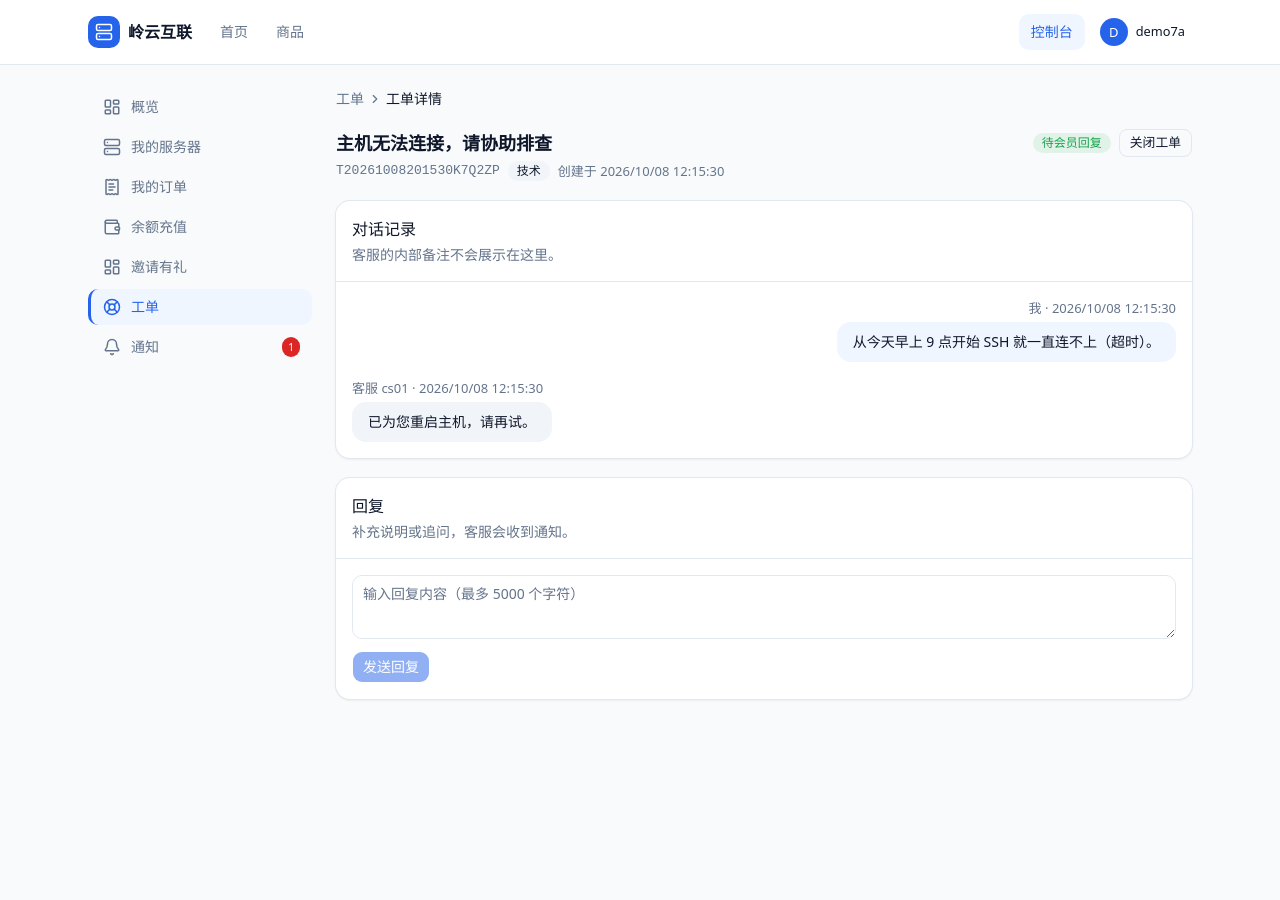
会员区 · 工单详情 › 发送回复按 content 提交请求并刷新对话
Expected: the heading "主机无法连接，请协助排查" is shown, left=336, top=131, right=552, bottom=155
Type "已重试，仍然不通。" into the text box labelled "回复内容" at (764, 607), box left=352, top=575, right=1176, bottom=639
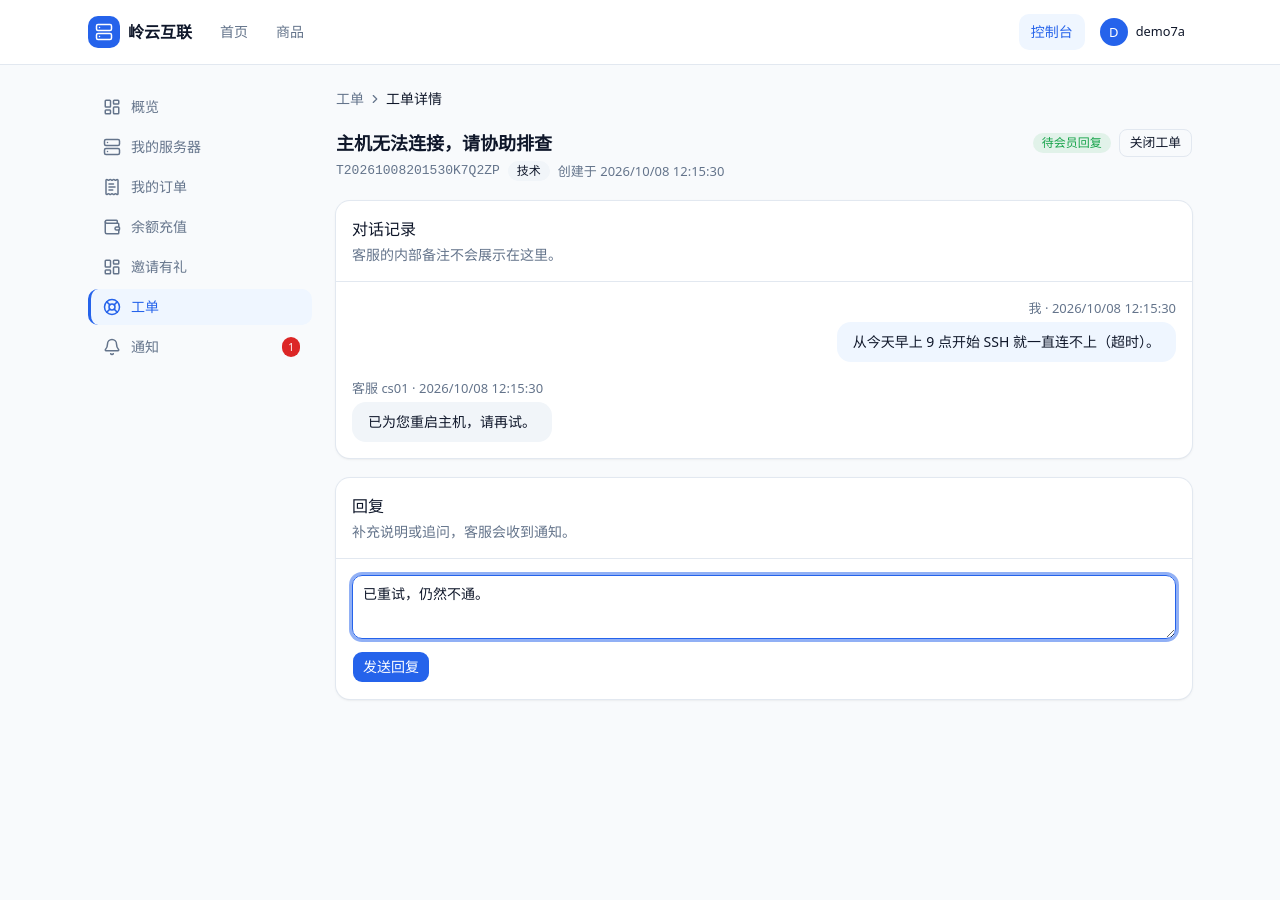
Click the button "发送回复" at (391, 667), box left=352, top=651, right=430, bottom=683
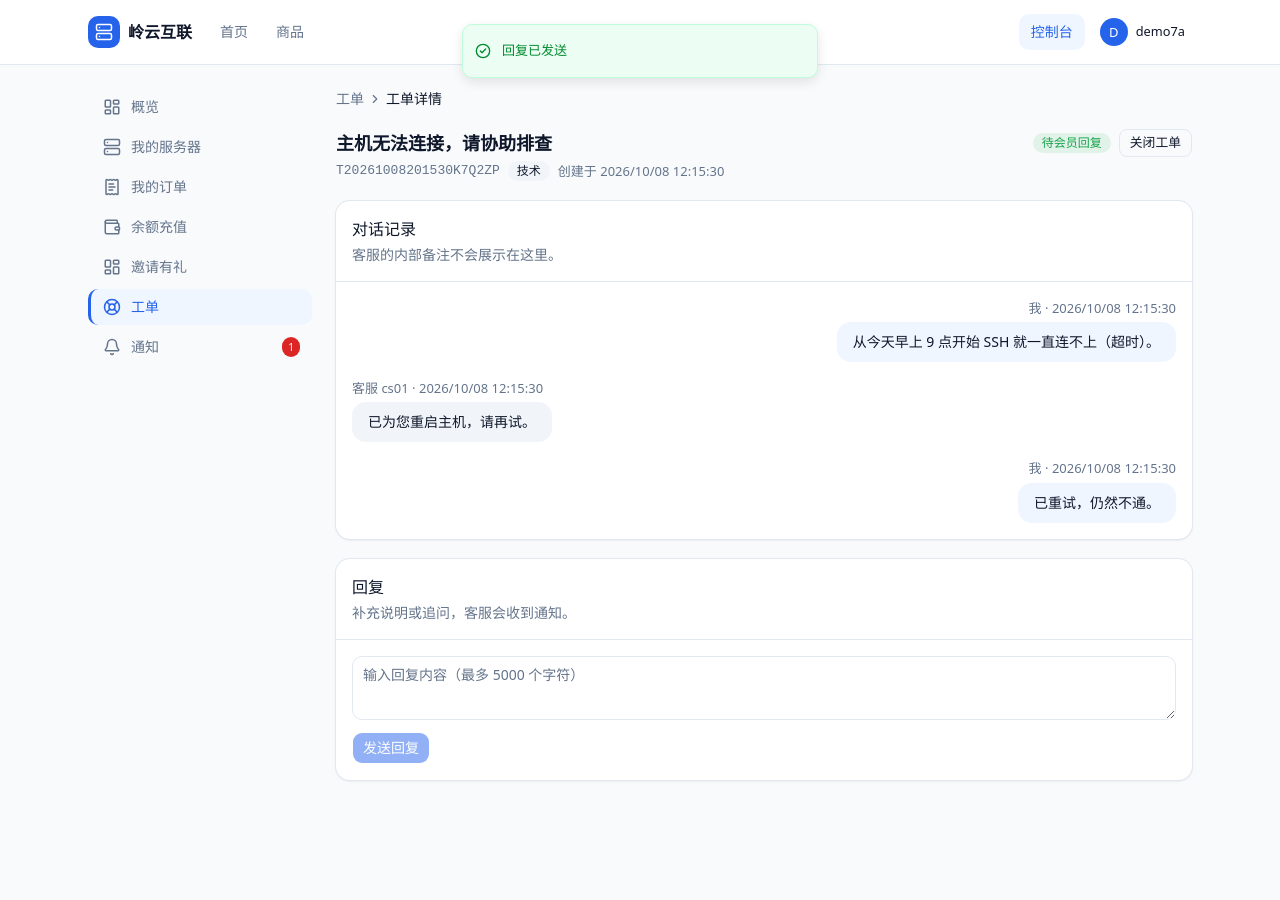
Expected: the text box labelled "回复内容" is empty, left=352, top=656, right=1176, bottom=720
Expected: the text "已重试，仍然不通。" is shown, left=1018, top=483, right=1176, bottom=523
